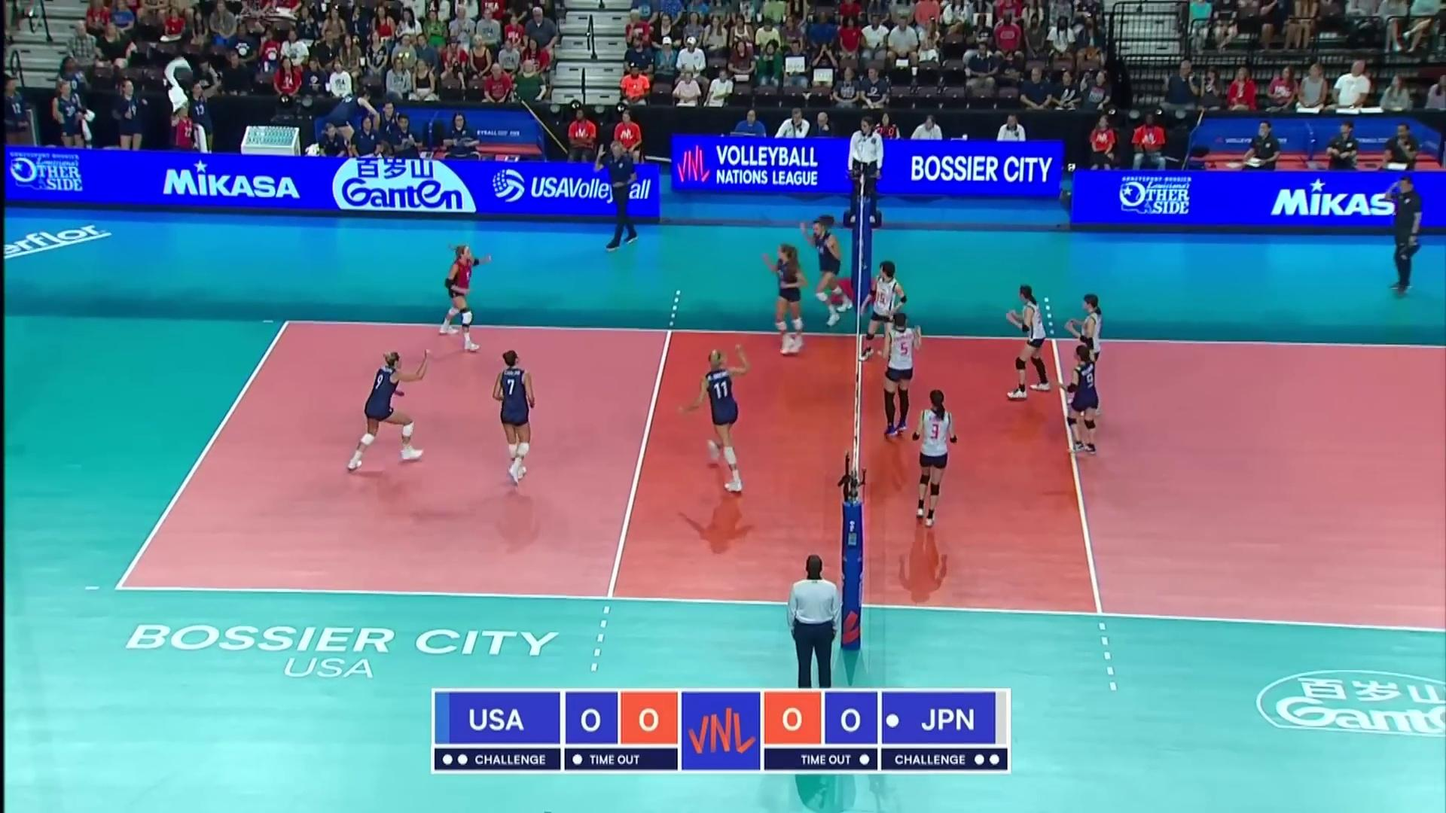player: (678, 349, 755, 490), (346, 350, 434, 472), (439, 246, 494, 355), (495, 351, 538, 488), (910, 392, 954, 524), (803, 213, 853, 326), (1006, 287, 1052, 403), (880, 310, 921, 440), (1056, 344, 1101, 458), (1064, 295, 1106, 417), (763, 242, 807, 356), (862, 262, 911, 358)
refree: (785, 556, 848, 689), (845, 117, 886, 218)
